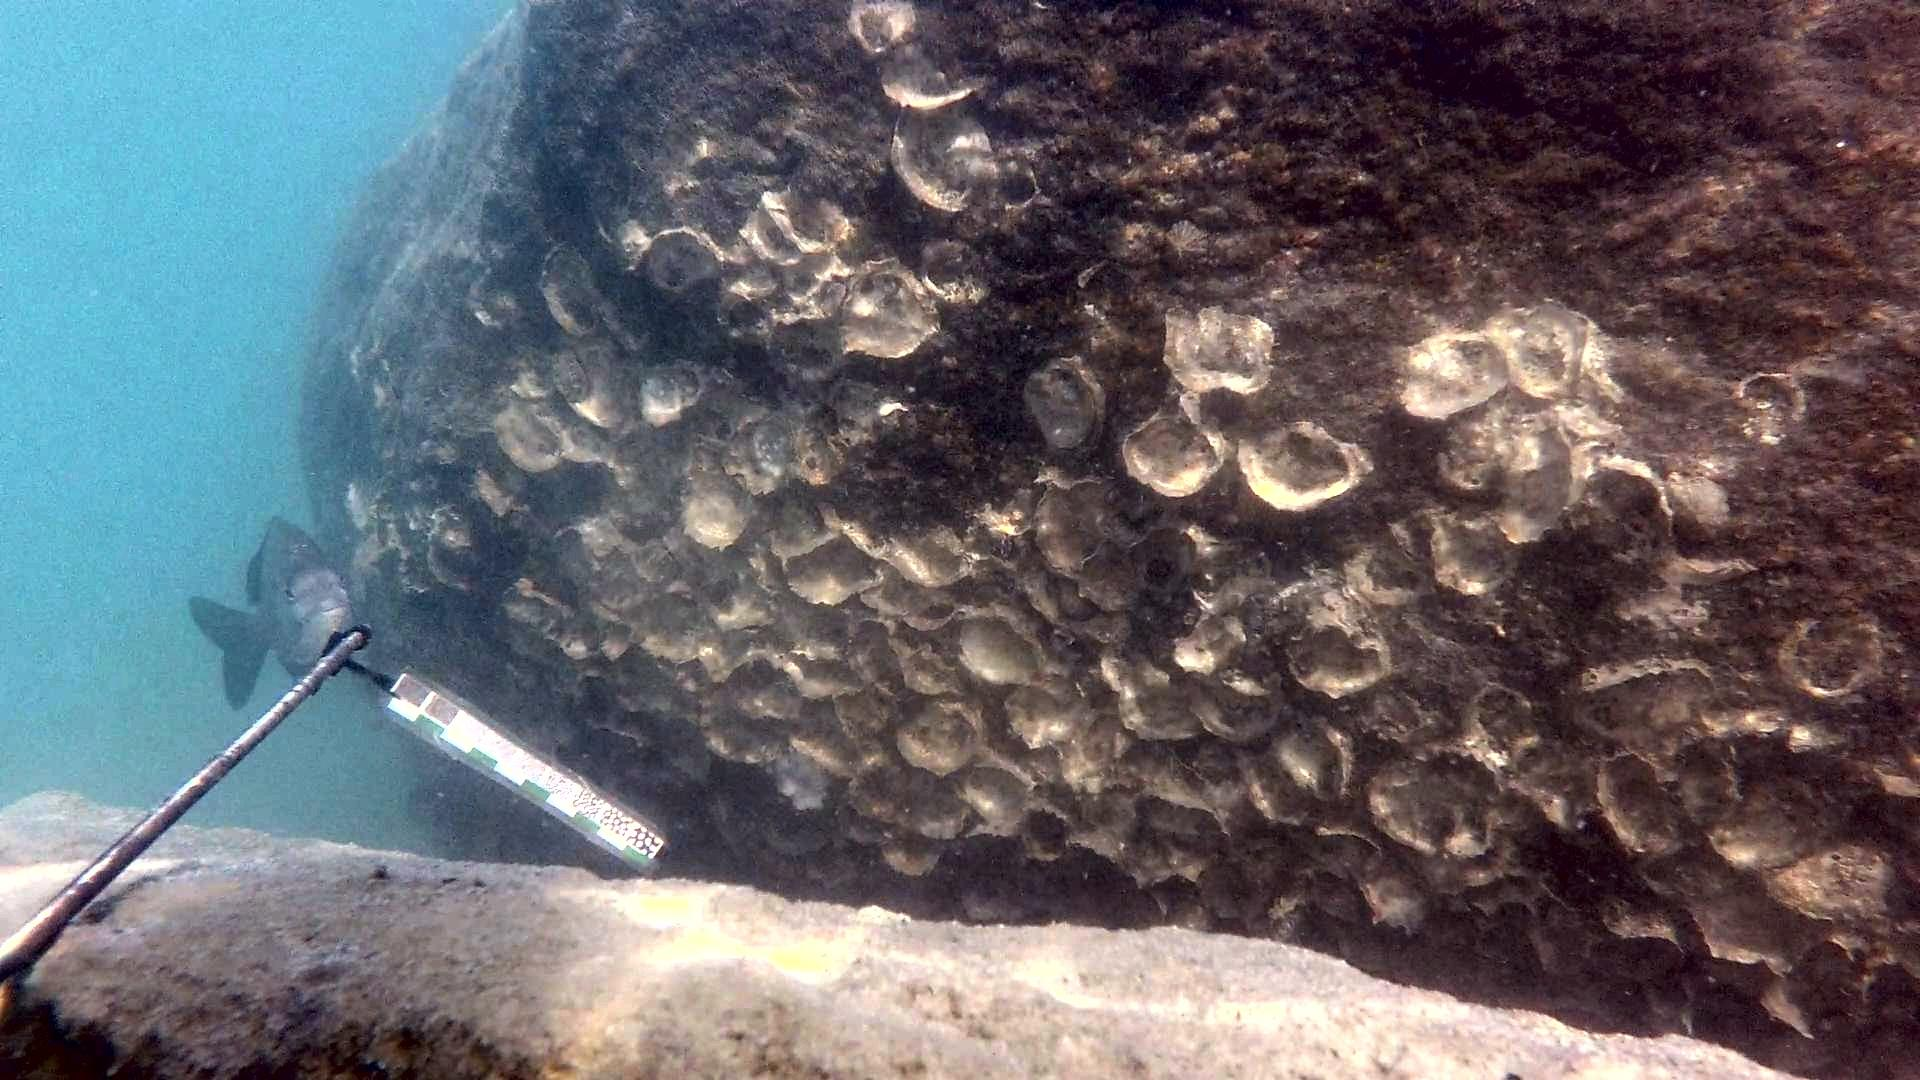acanthopagrus palmaris: (182, 507, 365, 715)
